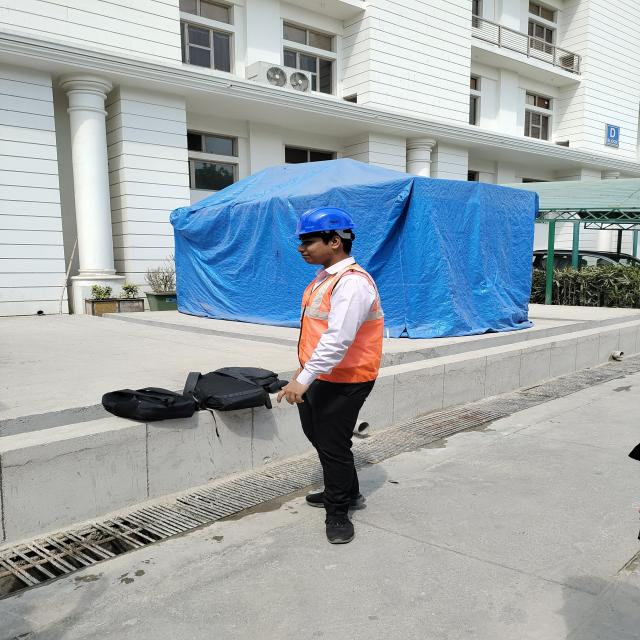safe: (287, 206, 384, 544)
